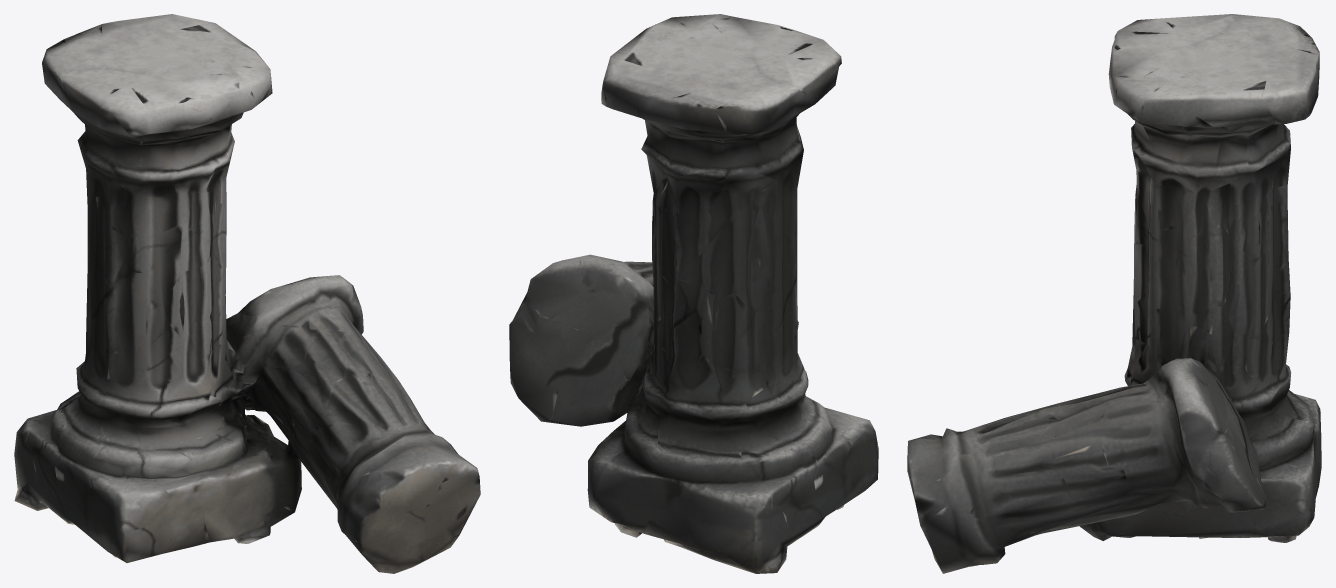
Rendered from broken_pillar.glb.
3 renders of one model, left to right at view 1: azimuth 30°, elevation 25°; view 2: azimuth 150°, elevation 25°; view 3: azimuth 270°, elevation 25°, orthographic. The views are drawn at different scales.
Bounding box in the file's own units: 1.38 × 2 × 1.64.
1 material, 1 textured.
